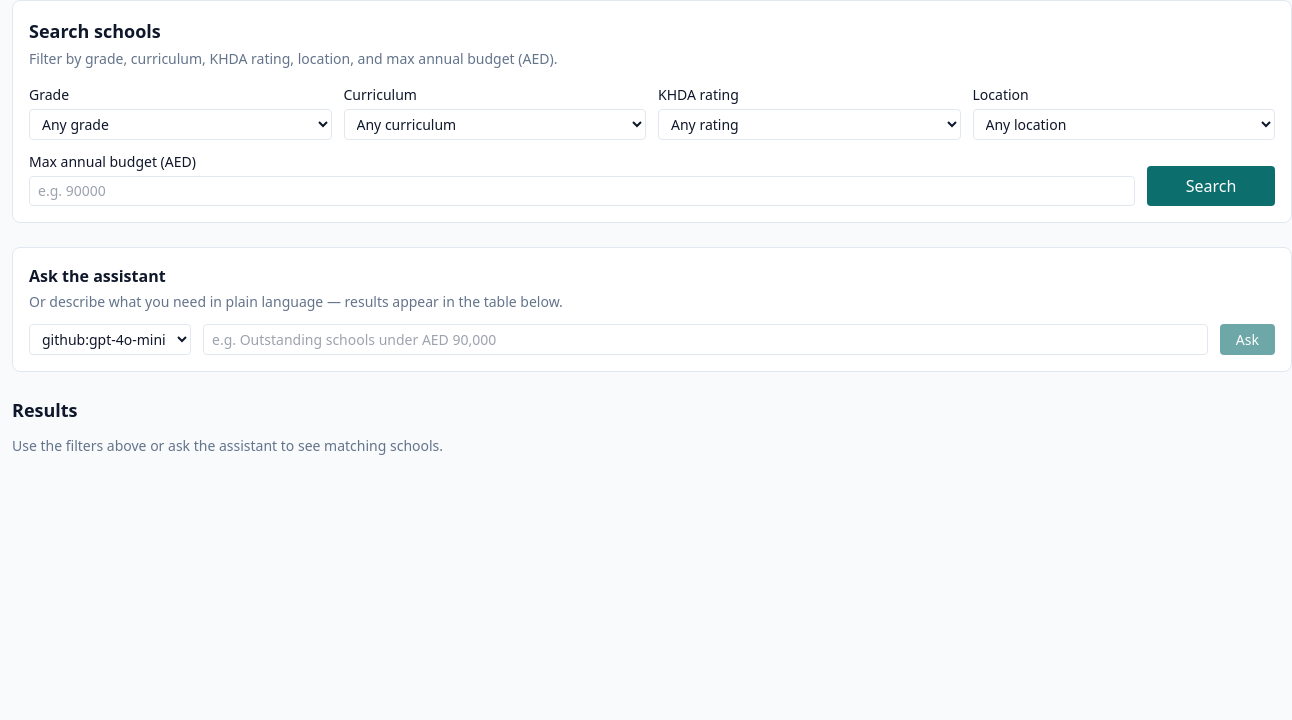
SearchClient › shows a friendly error state when search fails
Click the button "Search" at (1211, 186), box x1=1147 y1=166 x2=1275 y2=206
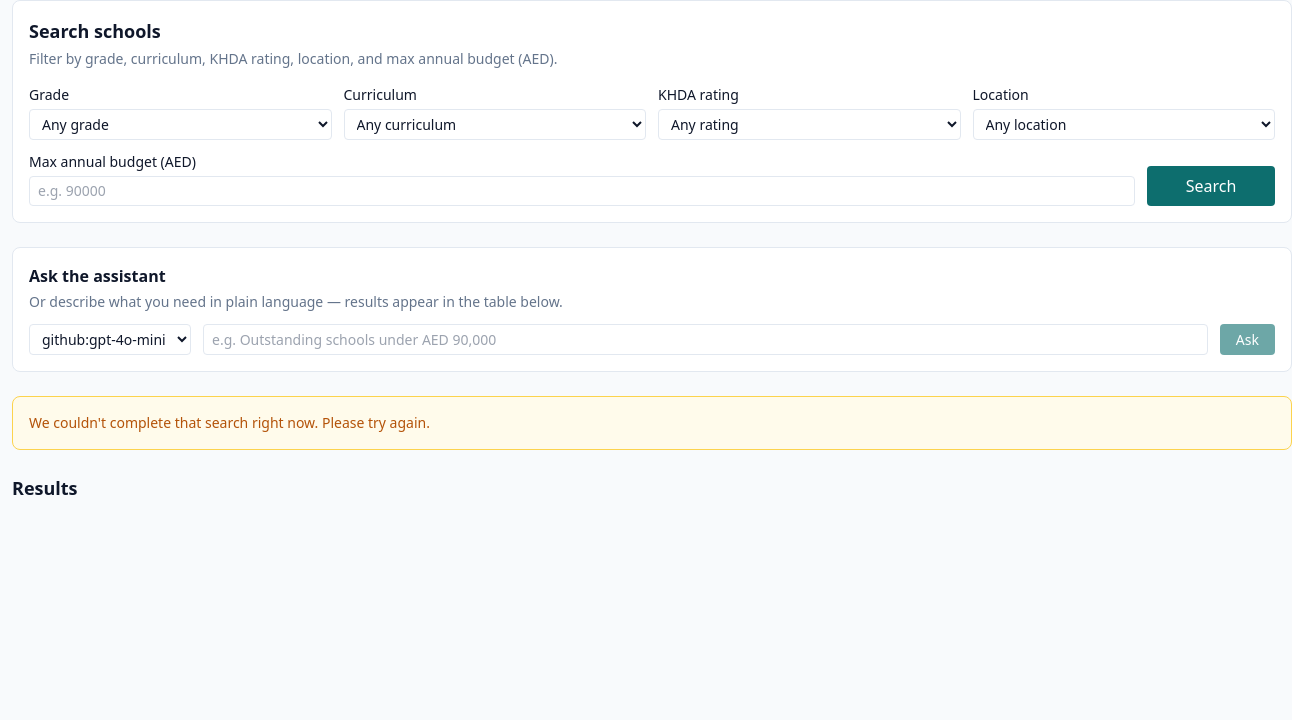
Check: the message "We couldn't complete that search right now. Please try again." is shown, box x1=12 y1=396 x2=1291 y2=450
